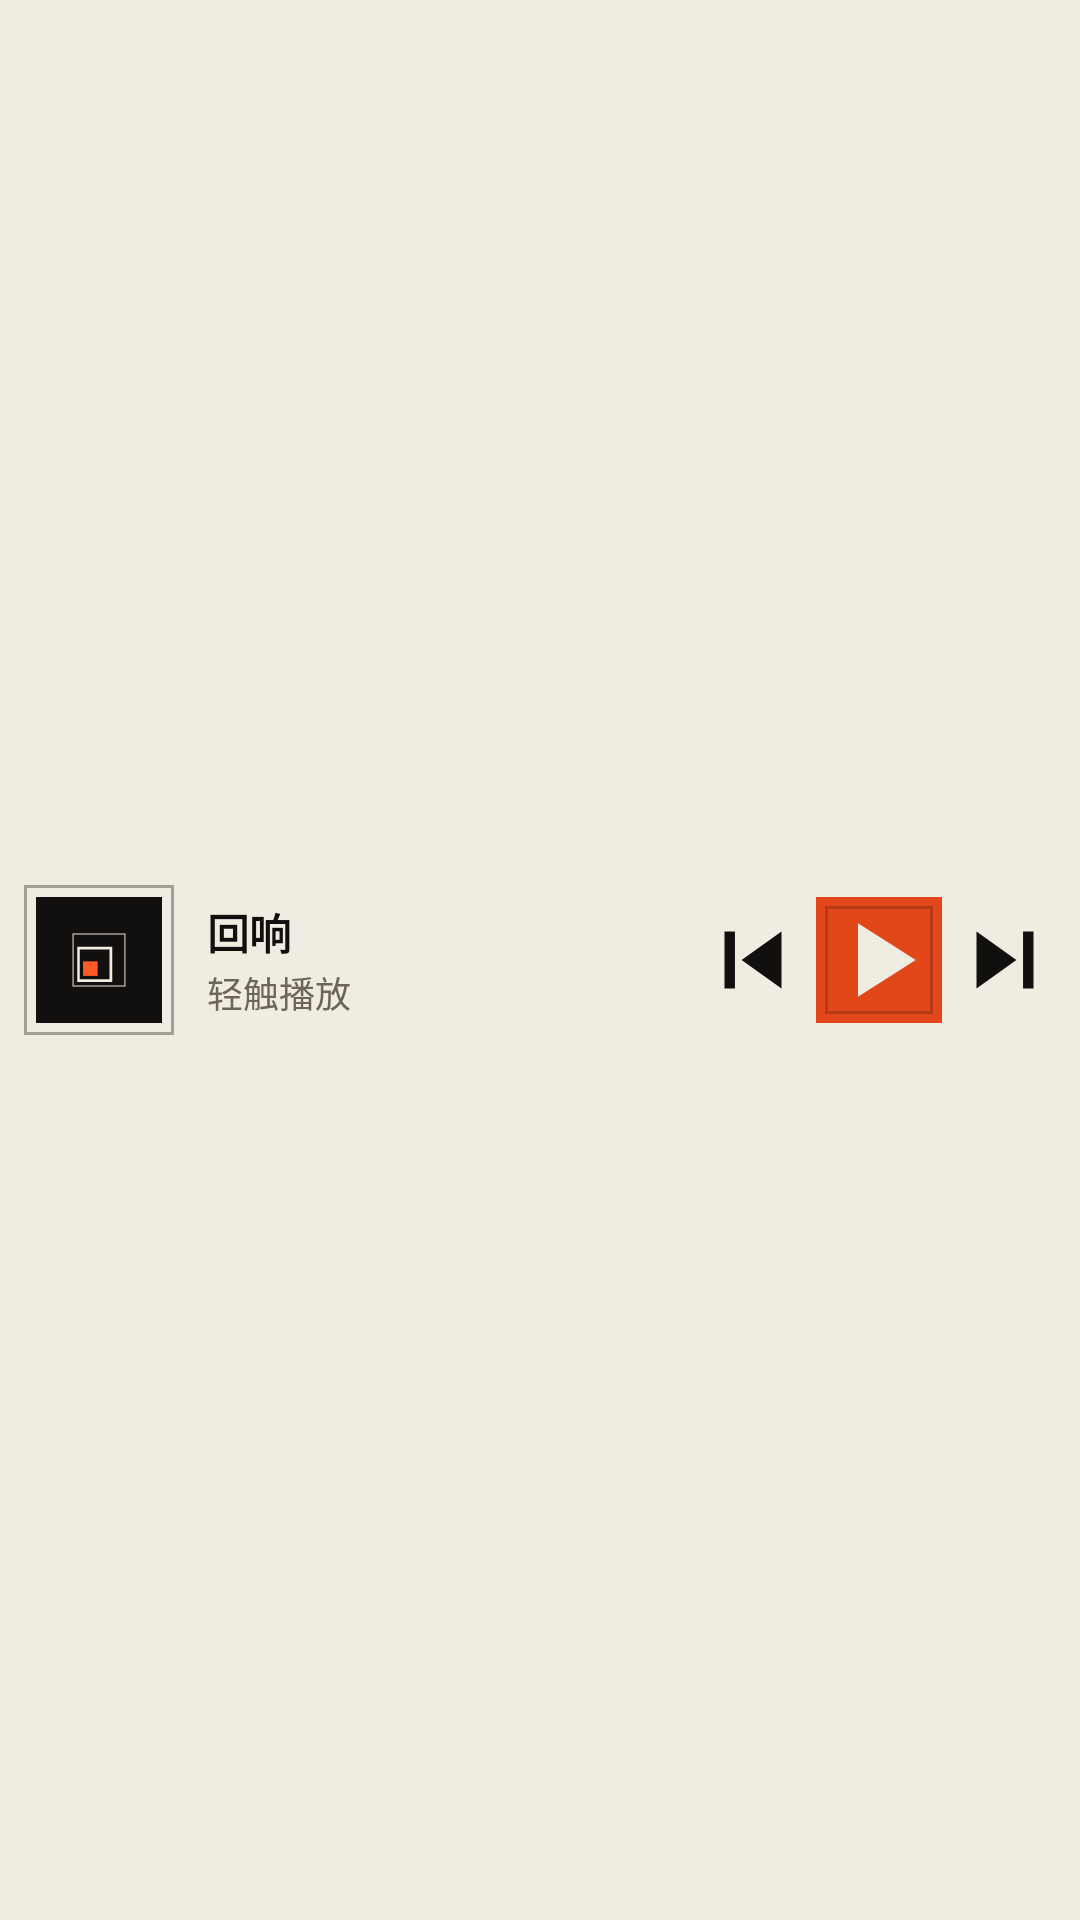

Screen size 1080x1920. Icon name, then its box in pixels as region(x1, y1, x2, y2):
上一首: region(724, 931, 782, 989)
下一首: region(976, 931, 1034, 989)
